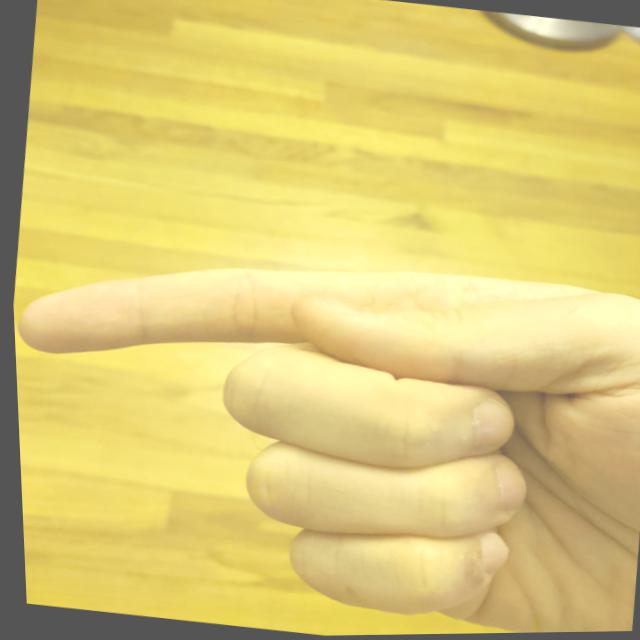G: (7, 199, 640, 639)
